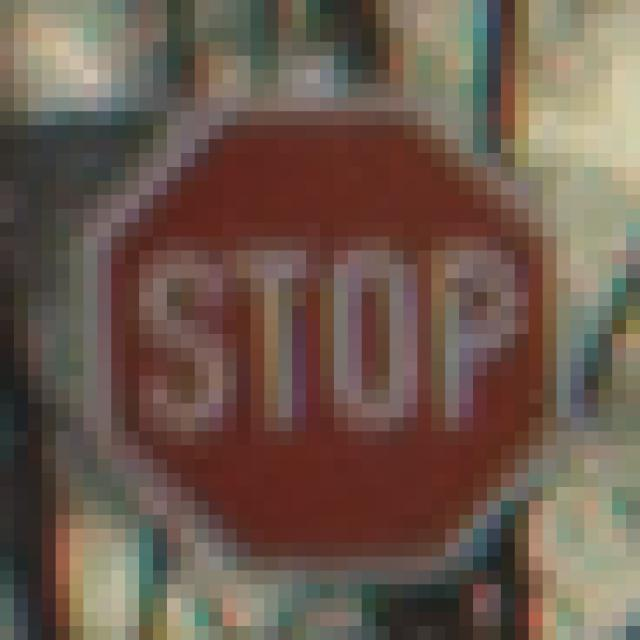STOP: (71, 71, 572, 572)
